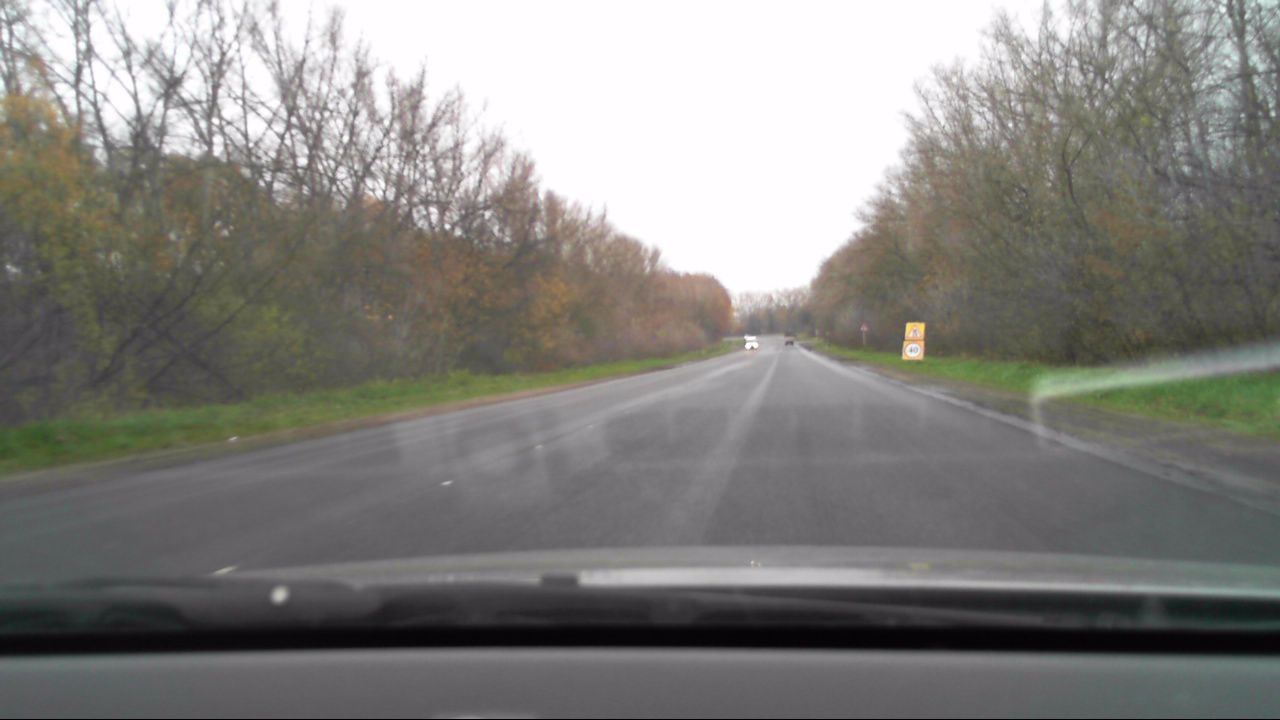speed_warning_40: (903, 341, 922, 359)
